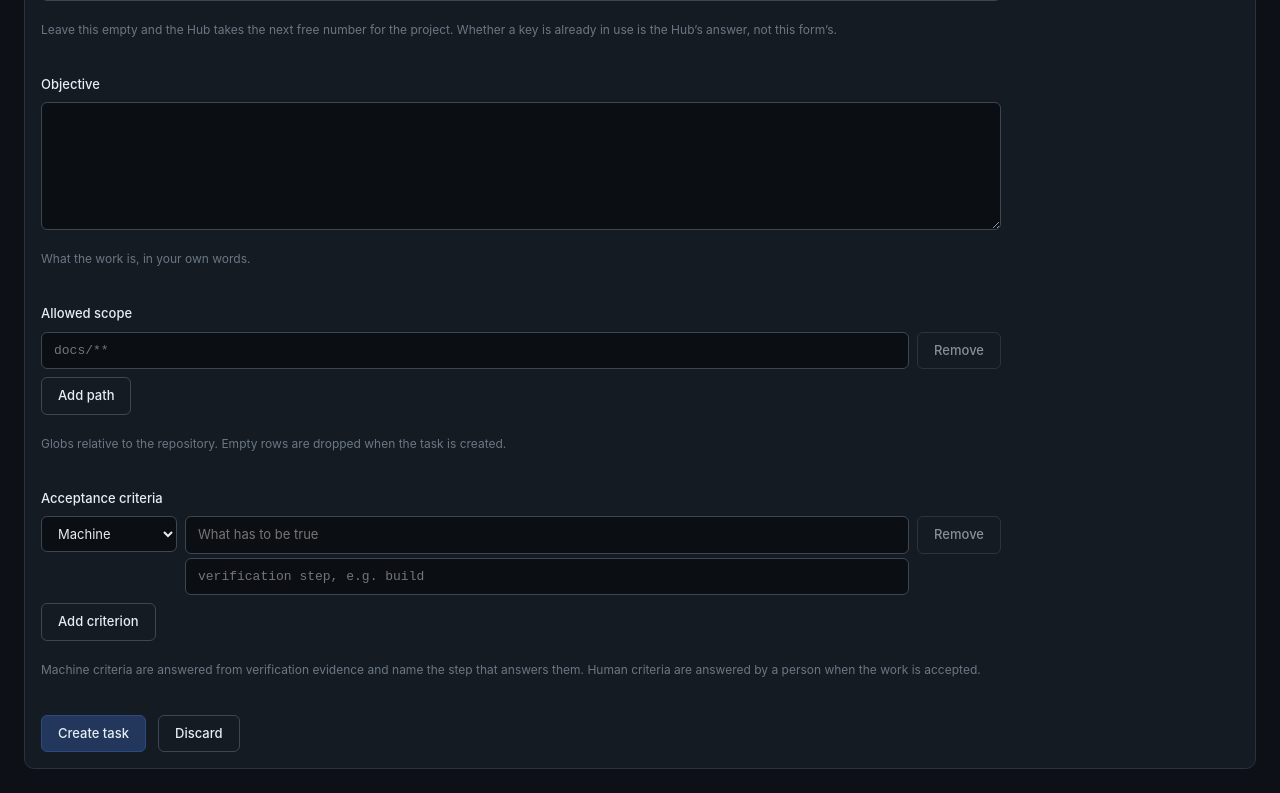
Test: CreateTaskPage › refuses to send until the things it can check are there
The image size is (1280, 793).
(page scrolled)
Step 1. Click the button "Create task" → [94, 733], box [41,714,146,752]
(page scrolled)
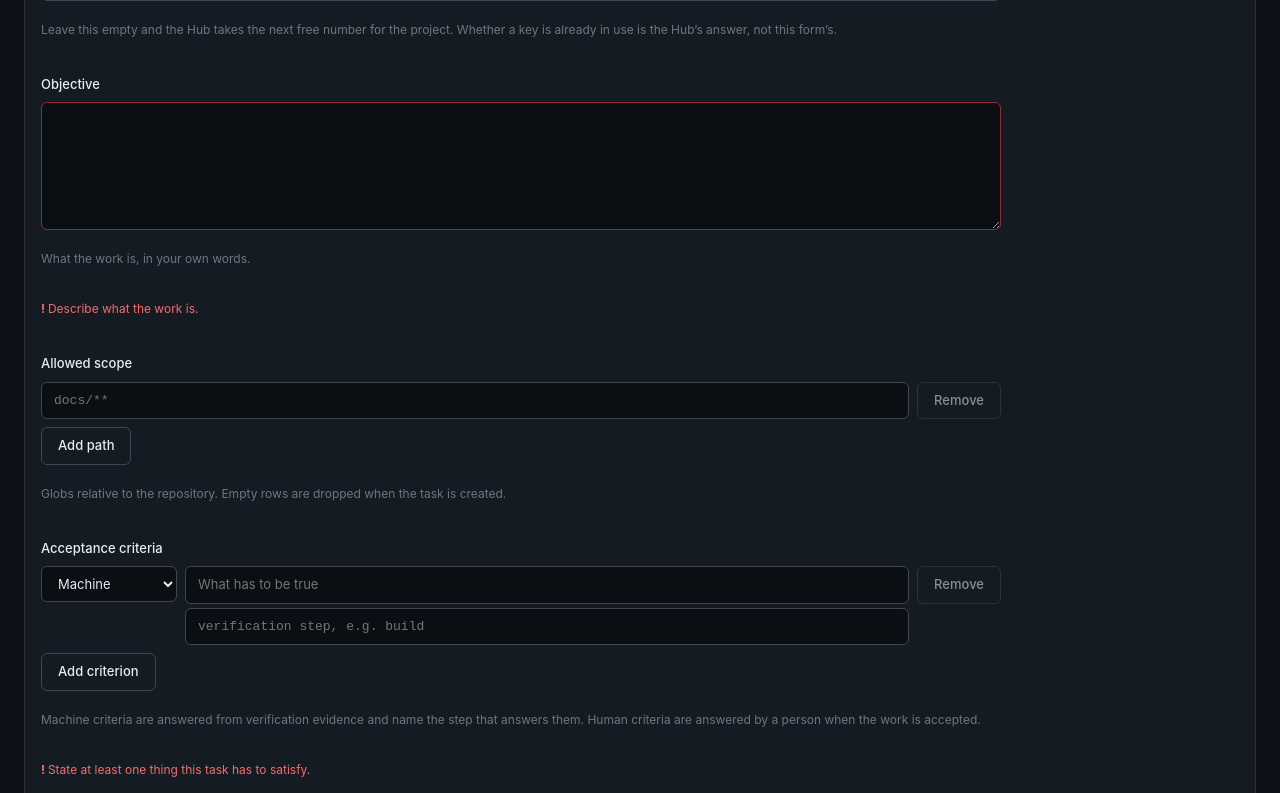
Expected: the text "Describe what the work is." is shown, [48,301,198,316]
